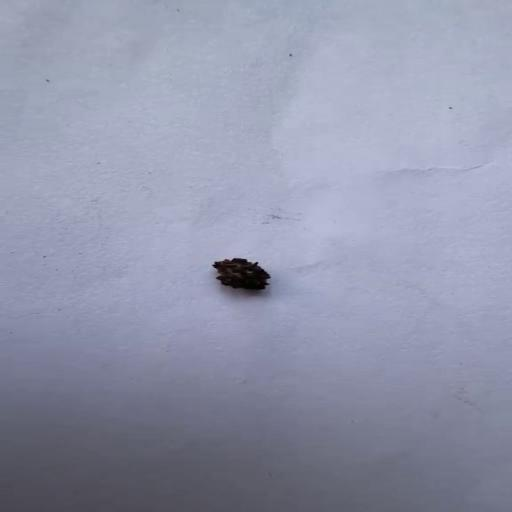papaya_seed: (211, 255, 272, 292)
